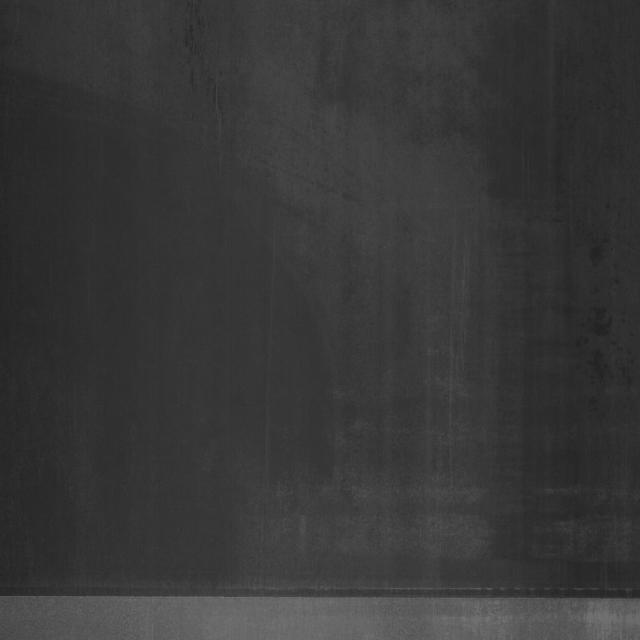crease: (1, 568, 640, 616)
